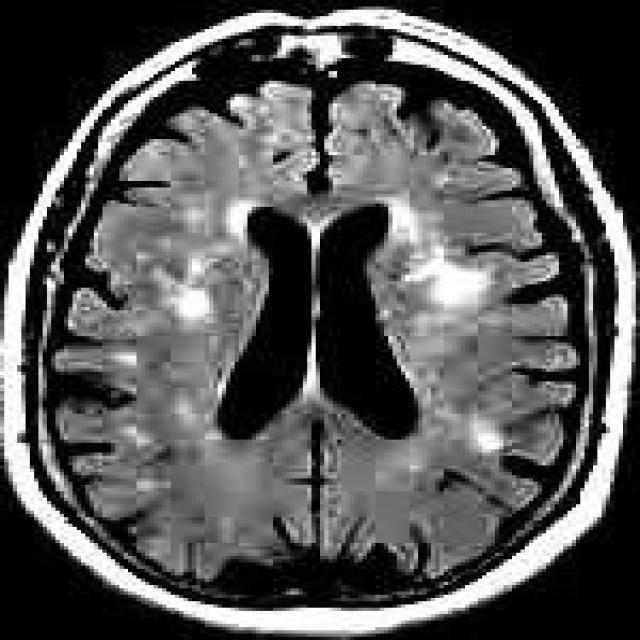notumor: (17, 10, 631, 617)
